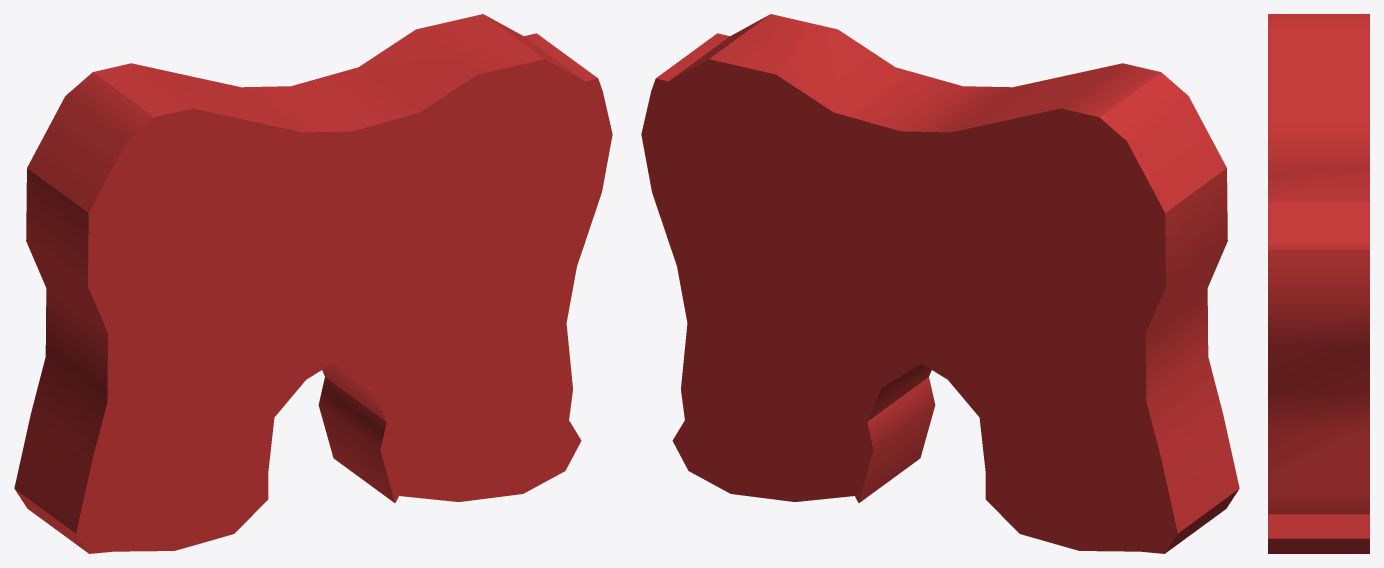
The model's file is bread_basket_body.obj.
3 renders of one model, left to right at view 1: azimuth 30°, elevation 25°; view 2: azimuth 150°, elevation 25°; view 3: azimuth 270°, elevation 25°, orthographic. The views are drawn at different scales.
Parts seen in each view (by area): view 1: bread_basket_visual; view 2: bread_basket_visual; view 3: bread_basket_visual.
Boxes of the visible parts, box(x1,y1,x2,y2) form: bread_basket_visual: box(14, 14, 612, 553); bread_basket_visual: box(641, 14, 1239, 553); bread_basket_visual: box(1268, 14, 1369, 553).
Bounding box in the file's own units: 0.01 × 0.00833 × 0.002.
